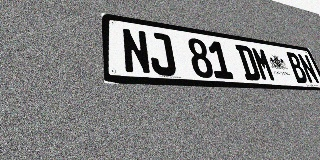1: (206, 40, 234, 79)
8: (186, 37, 215, 78)
B: (285, 52, 309, 83)
D: (235, 44, 262, 81)
J: (147, 31, 177, 76)
M: (250, 47, 276, 82)
N: (121, 27, 152, 75), (297, 53, 320, 84)
